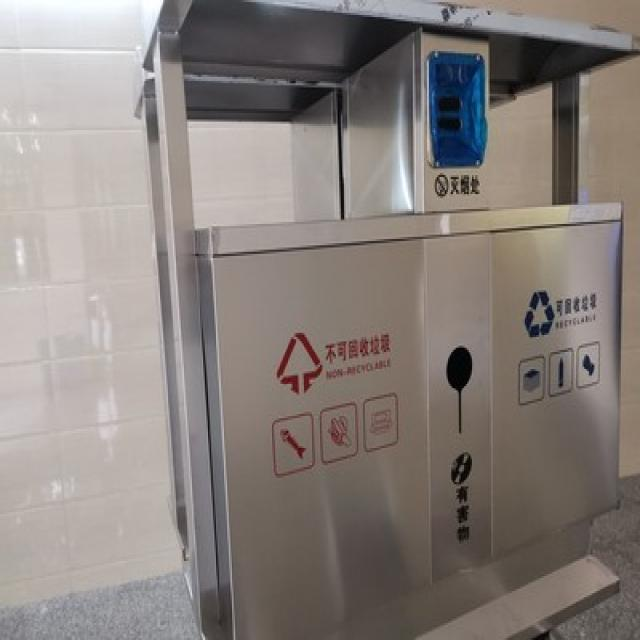ash bin: (131, 0, 629, 636)
